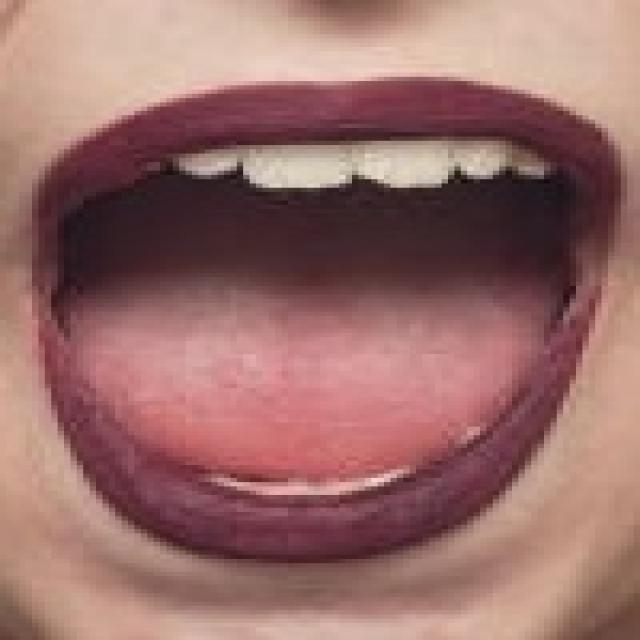open-mouth: (19, 72, 627, 564)
